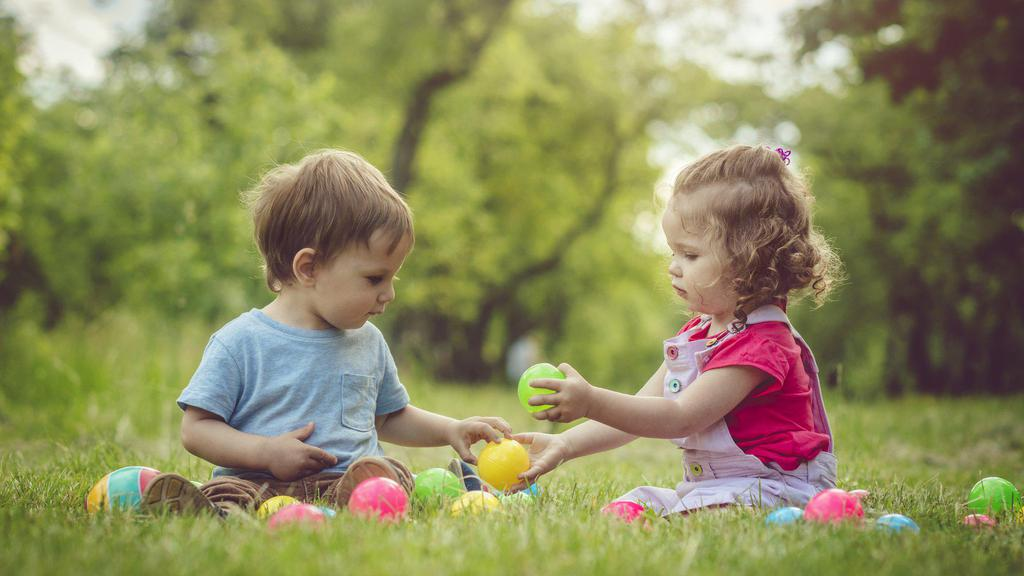child: (496, 129, 864, 523), (151, 147, 505, 522)
